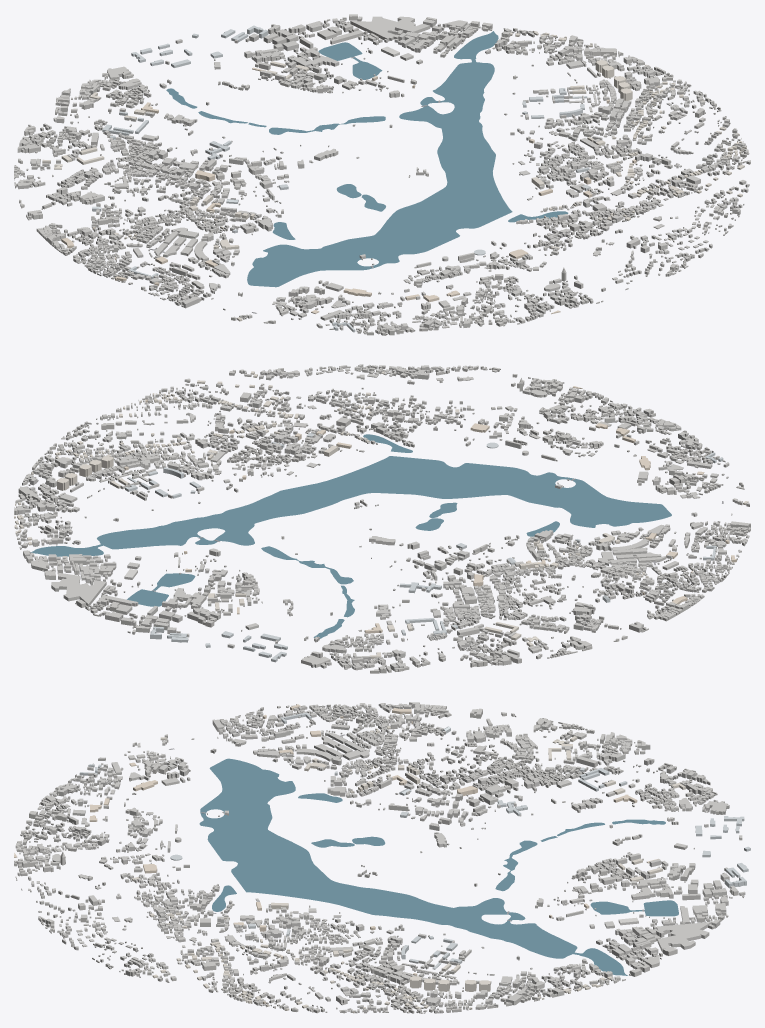
File: dalat-city.glb
3 views of the same model, one above another, from view 1: azimuth 30°, elevation 25°; view 2: azimuth 150°, elevation 25°; view 3: azimuth 270°, elevation 25° (orthographic).
Visible parts, largest first — view 1: BUILDINGS_OTHER, WATER, BUILDINGS_RESIDENTIAL, BUILDINGS_PUBLIC, BUILDINGS_COMMERCIAL; view 2: BUILDINGS_OTHER, WATER, BUILDINGS_RESIDENTIAL, BUILDINGS_PUBLIC, BUILDINGS_COMMERCIAL; view 3: BUILDINGS_OTHER, WATER, BUILDINGS_RESIDENTIAL, BUILDINGS_PUBLIC, BUILDINGS_COMMERCIAL.
Part boxes in pixels (<box>): BUILDINGS_OTHER: <box>14,14,750,335</box>; WATER: <box>166,31,568,287</box>; BUILDINGS_RESIDENTIAL: <box>42,30,746,321</box>; BUILDINGS_PUBLIC: <box>92,25,590,332</box>; BUILDINGS_COMMERCIAL: <box>61,67,738,314</box>; BUILDINGS_OTHER: <box>14,364,750,673</box>; WATER: <box>30,434,671,638</box>; BUILDINGS_RESIDENTIAL: <box>14,371,748,658</box>; BUILDINGS_PUBLIC: <box>125,433,723,662</box>; BUILDINGS_COMMERCIAL: <box>124,386,736,633</box>; BUILDINGS_OTHER: <box>14,702,745,1013</box>; WATER: <box>199,758,678,975</box>; BUILDINGS_RESIDENTIAL: <box>132,726,685,1013</box>; BUILDINGS_PUBLIC: <box>79,712,750,969</box>; BUILDINGS_COMMERCIAL: <box>14,704,659,1003</box>.
Size of the model in its own units: 2520 by 92.9 by 2509.
